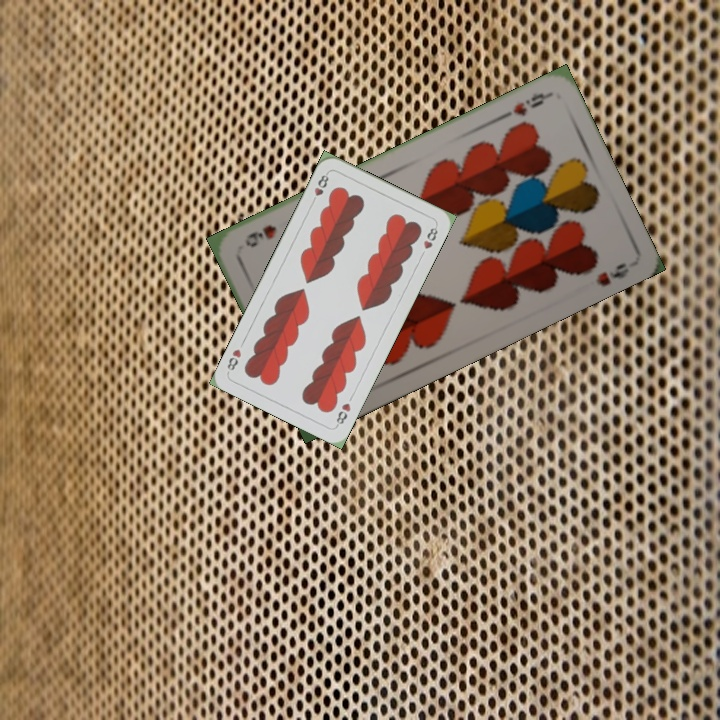H8: (308, 169, 331, 207), (332, 399, 353, 429)
H9: (508, 89, 553, 119)
